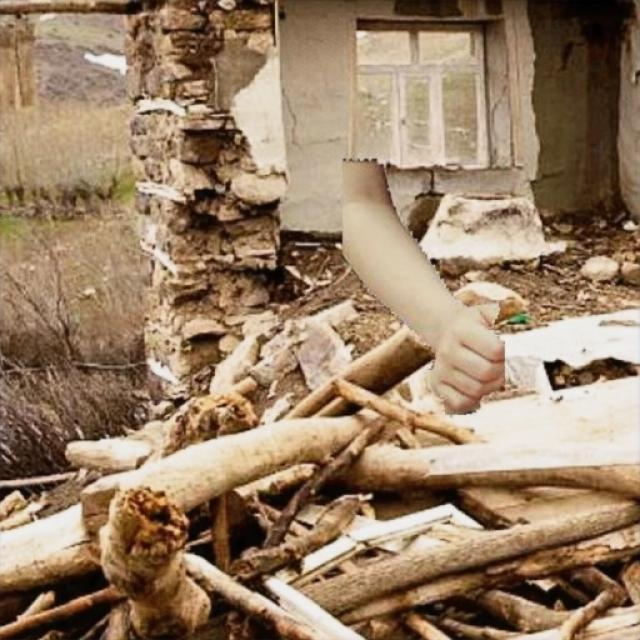Person in Rubble: (342, 158, 503, 416)
